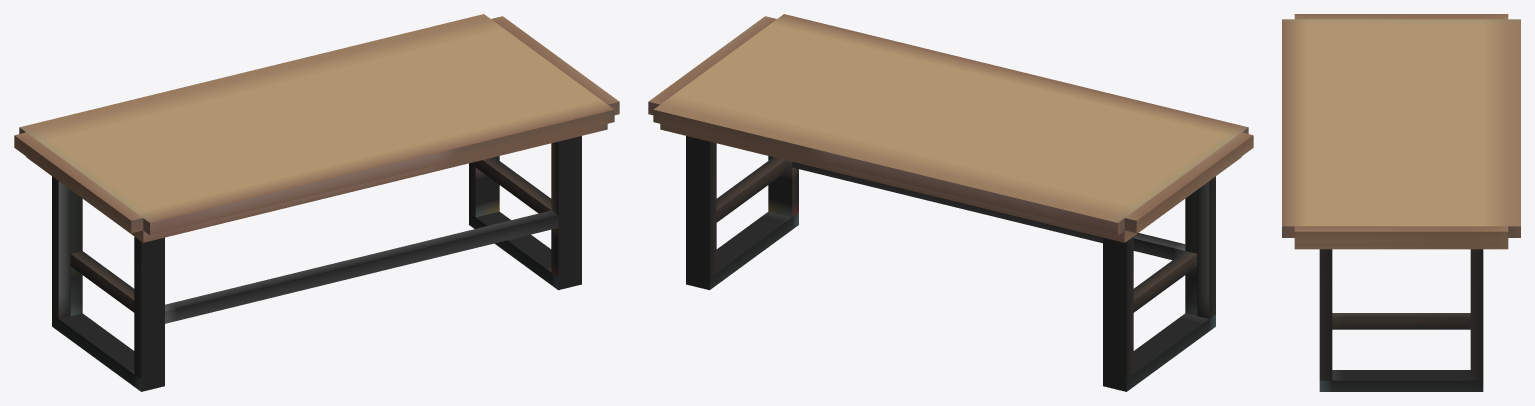
Rendered from OfficeDeskWider_00.fbx.
3 views of the same model, side by side, from view 1: azimuth 30°, elevation 25°; view 2: azimuth 150°, elevation 25°; view 3: azimuth 270°, elevation 25° (orthographic). The views are drawn at different scales.
Visible parts, largest first — view 1: OfficeDeskWider_00; view 2: OfficeDeskWider_00; view 3: OfficeDeskWider_00.
Part boxes in pixels (x1=…): OfficeDeskWider_00: x1=14, y1=14, x2=619, y2=391; OfficeDeskWider_00: x1=648, y1=14, x2=1253, y2=391; OfficeDeskWider_00: x1=1282, y1=14, x2=1520, y2=391.
Bounding box in the file's own units: 205 × 95 × 75.
Materials: 1 (1 with a texture image).
